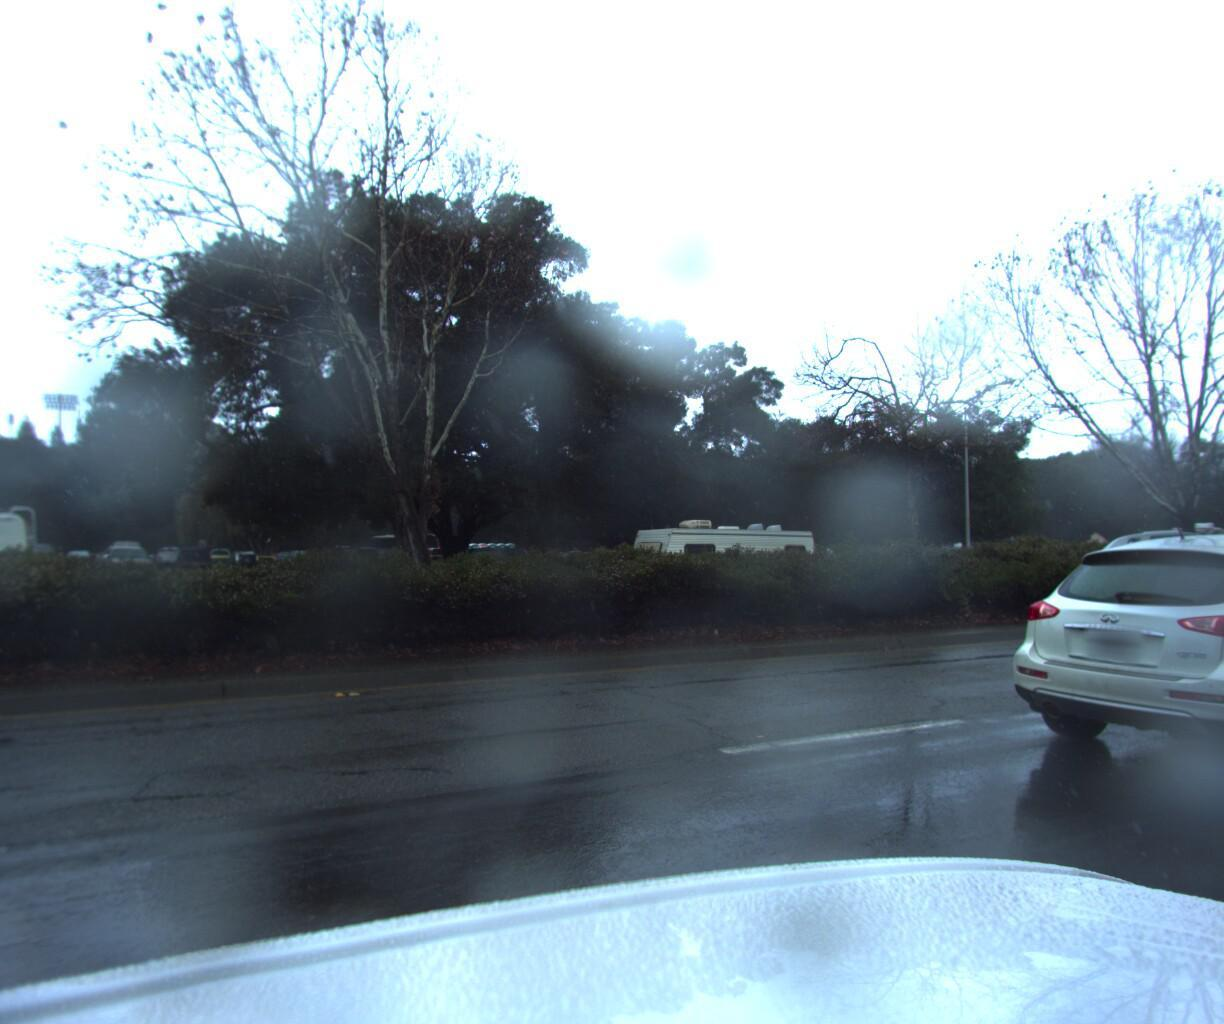car: (975, 509, 1224, 816)
other_vehicle: (621, 503, 851, 602), (0, 482, 63, 655), (1131, 508, 1224, 573)
